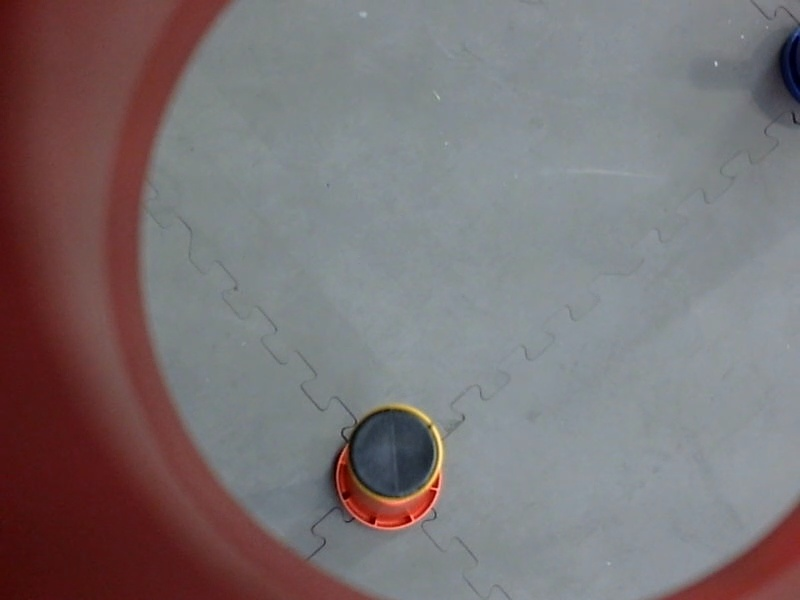tip: (339, 397, 448, 504)
